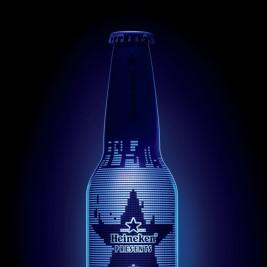beer: (85, 26, 180, 267)
